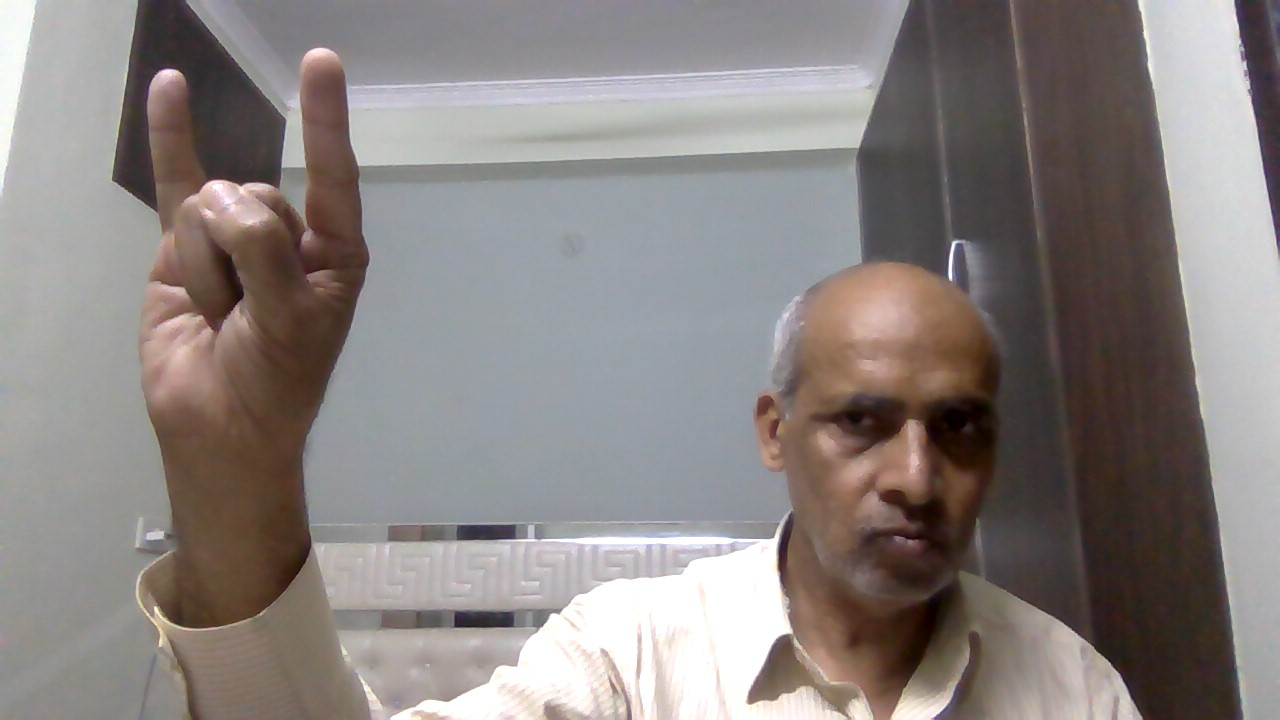Select All: (124, 39, 383, 464)
